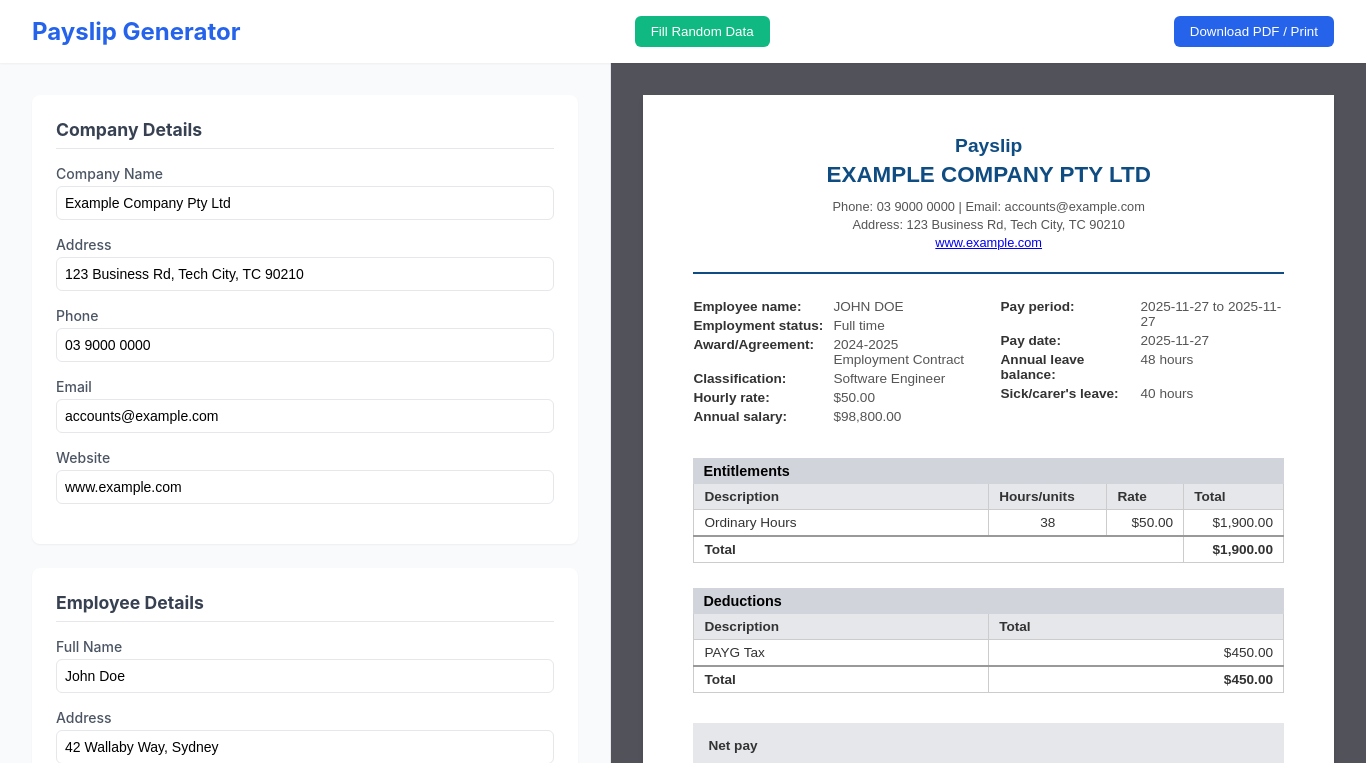
Test: App Component › updates company name in preview when edited
Replace the text in the field showing "Example Company Pty Ltd" below "Company Name" with "New Test Company" at x=305, y=203, box [56,186,554,220]
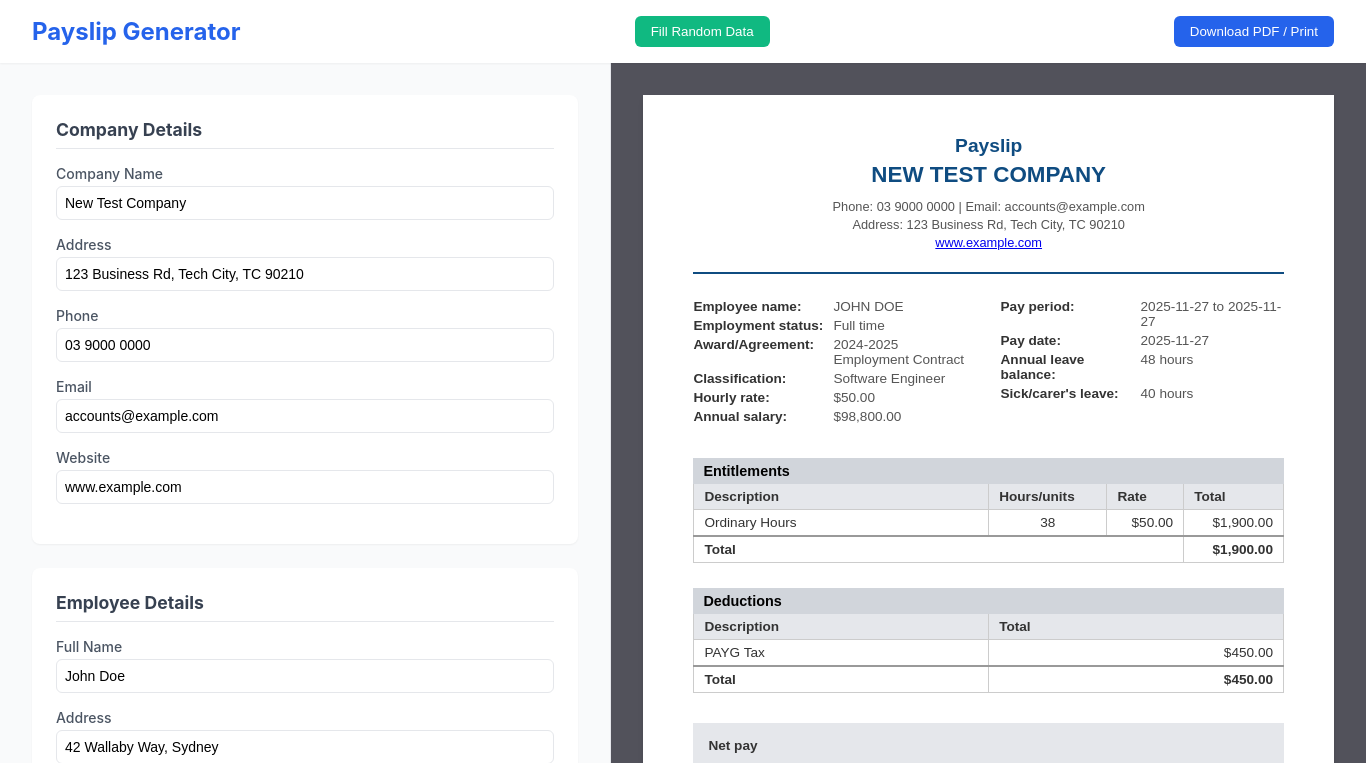
Result: the heading "NEW TEST COMPANY" is shown at [871,162,1106,187]
